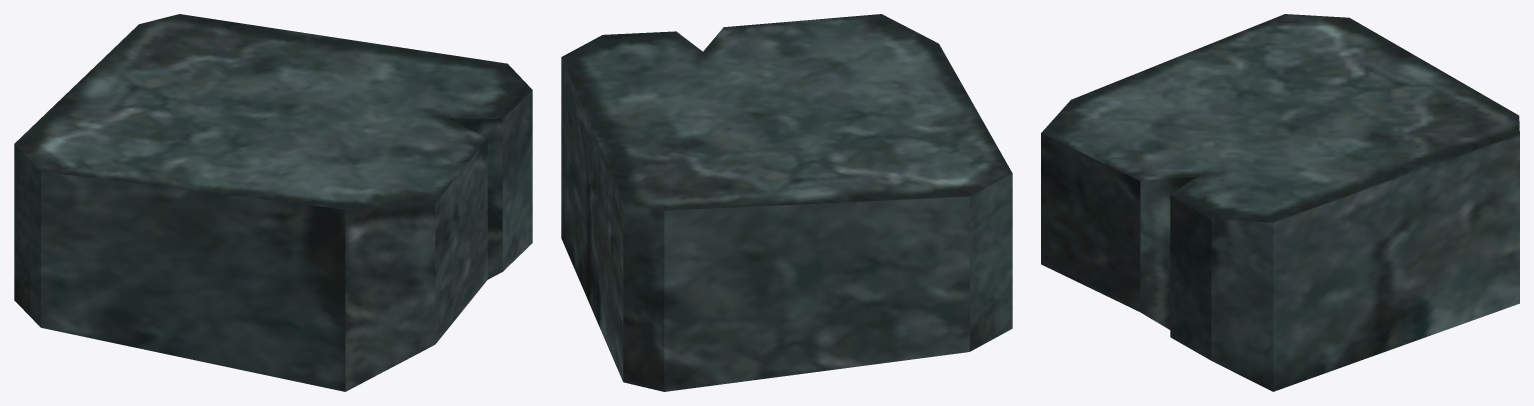
File: floor_peice2.fbx
The picture shows the model from 3 angles, left to right: view 1: azimuth 30°, elevation 25°; view 2: azimuth 150°, elevation 25°; view 3: azimuth 270°, elevation 25°; orthographic projection. The views are drawn at different scales.
Parts seen in each view (by area): view 1: obj0.009; view 2: obj0.009; view 3: obj0.009.
Part boxes in pixels (x1,y1,x2,y2): obj0.009: (14,14,532,391); obj0.009: (561,14,1012,391); obj0.009: (1041,14,1519,391).
Size of the model in its own units: 1.34 by 0.6706 by 1.3.
